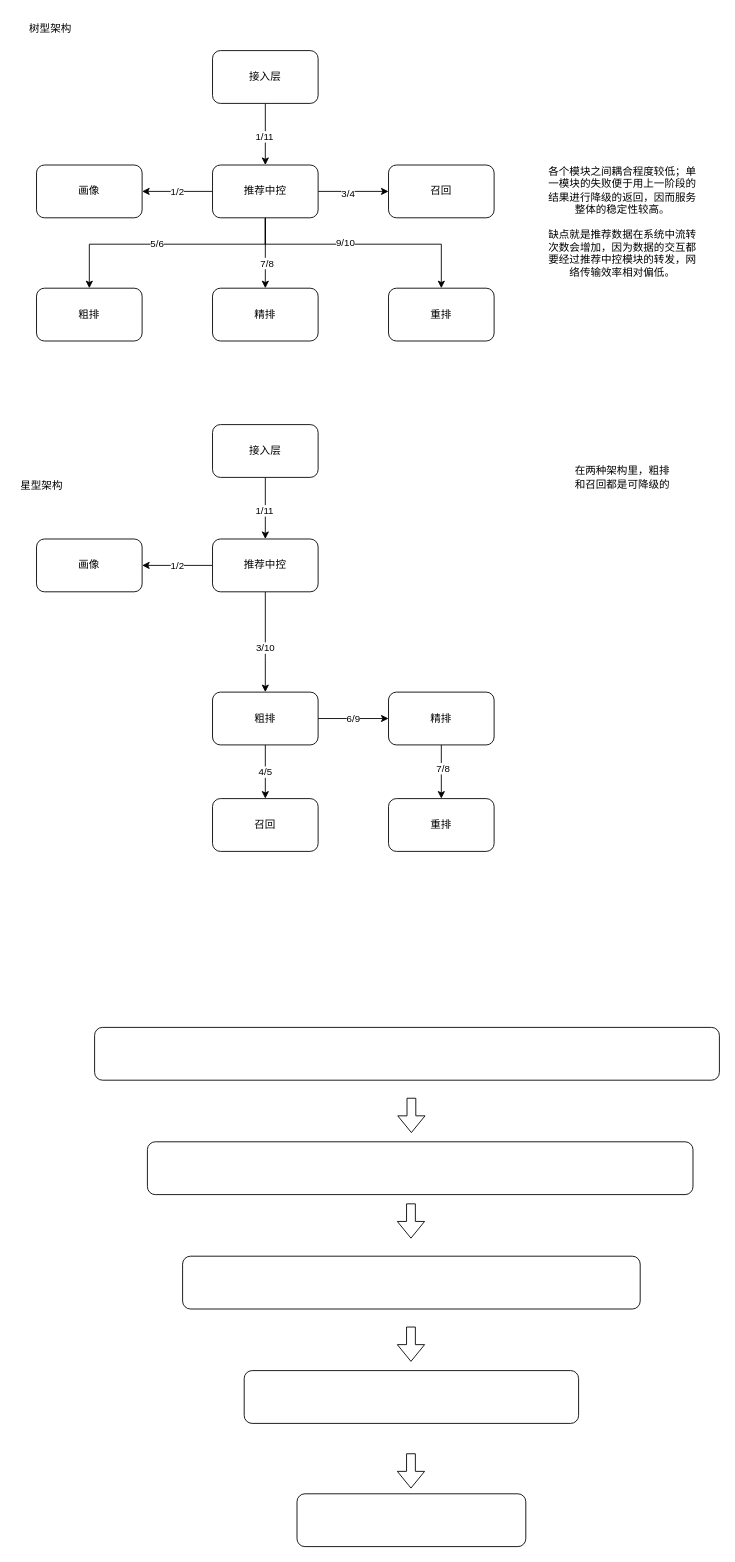
Image size: 735x1562. Some labels were removed from this diagram. Here are the shapes that lost their labels. From the top down, the centre of each, then its label:
At (x=406, y=1053): "索引（百万、千万、亿级）".
At (x=420, y=1168): "召回（大几千、万级）".
At (x=411, y=1282): "粗排（千级）".
At (x=411, y=1396): "精排（百级）".
At (x=411, y=1520): "重排（十级）".
